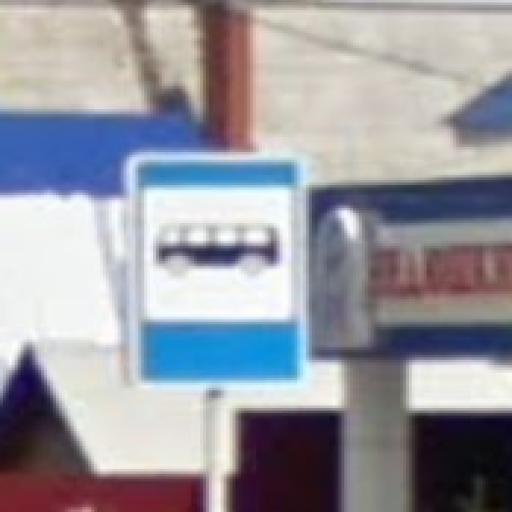traffic_sign: (127, 153, 310, 391)
